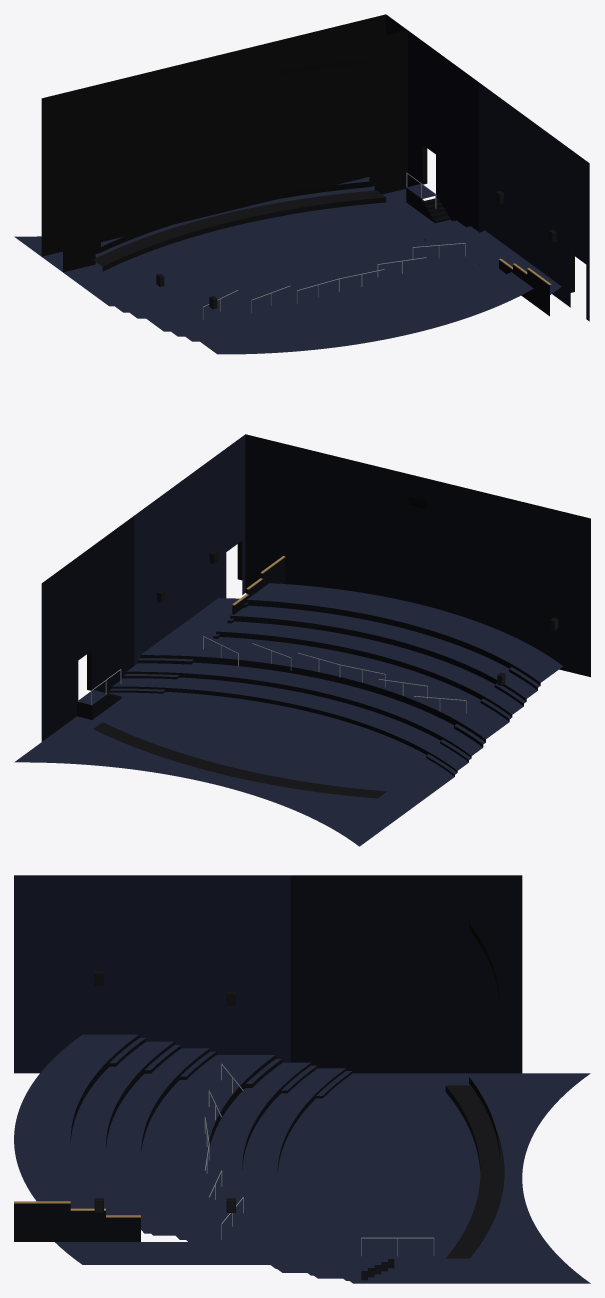
Rendered from hallI.glb.
3 renders of one model, top to bottom at view 1: azimuth 30°, elevation 25°; view 2: azimuth 150°, elevation 25°; view 3: azimuth 270°, elevation 25°, orthographic. The views are drawn at different scales.
Parts seen in each view (by area): view 1: hallI; view 2: hallI; view 3: hallI.
Part boxes in pixels (bbox=[...]): hallI: bbox=[14, 14, 589, 354]; hallI: bbox=[14, 434, 590, 846]; hallI: bbox=[14, 875, 590, 1283].
Bounding box in the file's own units: 22.9 × 9.92 × 26.22.
